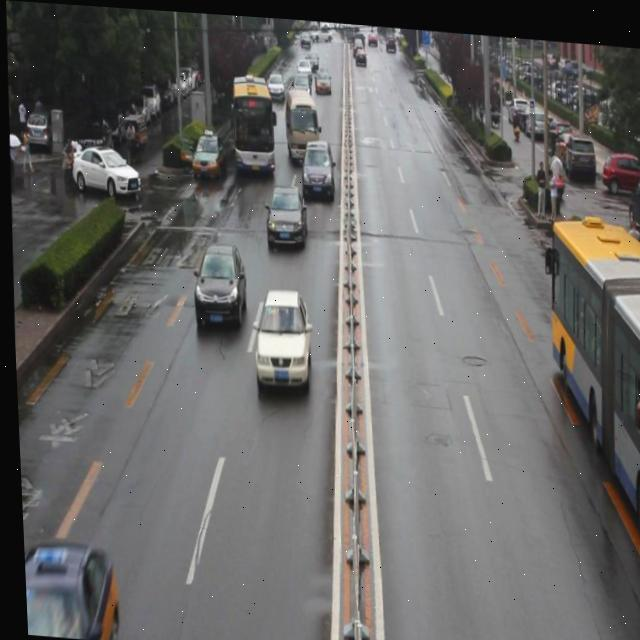car: (19, 542, 111, 630), (251, 283, 309, 390), (190, 238, 245, 329), (263, 180, 304, 247), (298, 136, 334, 197), (188, 137, 224, 189)
truck: (283, 89, 321, 166)
van: (534, 213, 640, 559), (229, 67, 274, 173)
